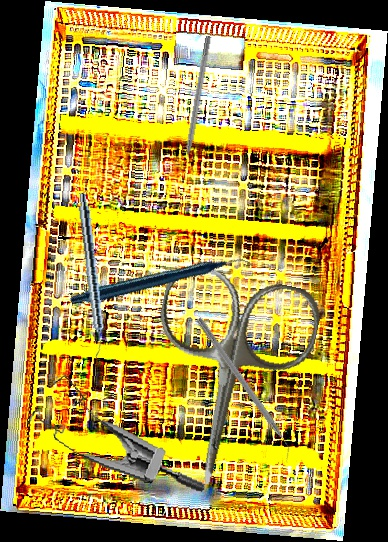Chopper: (187, 315, 299, 465)
Handpiece: (68, 203, 255, 363), (73, 192, 109, 359)
Hook Surgical: (180, 35, 212, 171)
Iris Scissors: (127, 260, 326, 501)
Speculum: (19, 369, 222, 495)
